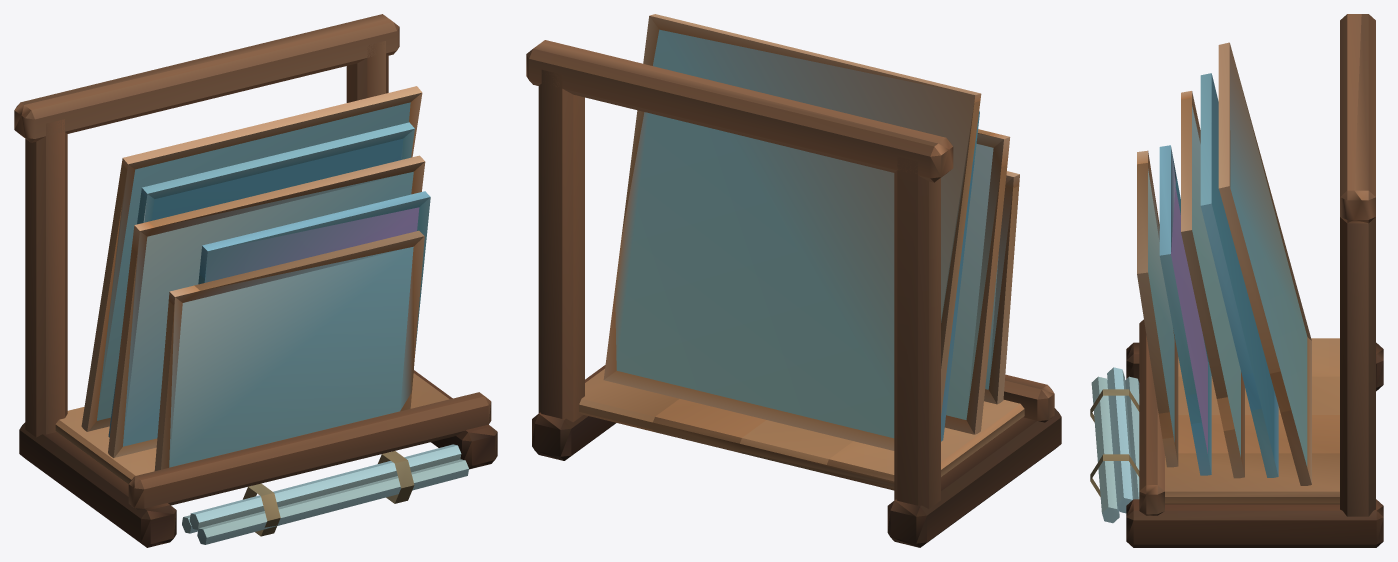
Rendered from glass-panes.low.glb.
The picture shows the model from 3 angles, left to right: view 1: azimuth 30°, elevation 25°; view 2: azimuth 150°, elevation 25°; view 3: azimuth 270°, elevation 25°; orthographic projection. The views are drawn at different scales.
Visible parts, largest first — view 1: glass-panes; view 2: glass-panes; view 3: glass-panes.
Boxes of the visible parts, <box> form: glass-panes: <box>14,14,497,547</box>; glass-panes: <box>526,14,1061,547</box>; glass-panes: <box>1090,14,1383,547</box>.
Size of the model in its own units: 0.84 by 0.7783 by 0.57.
